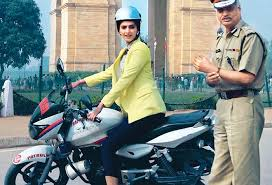helmet: (110, 3, 148, 45)
